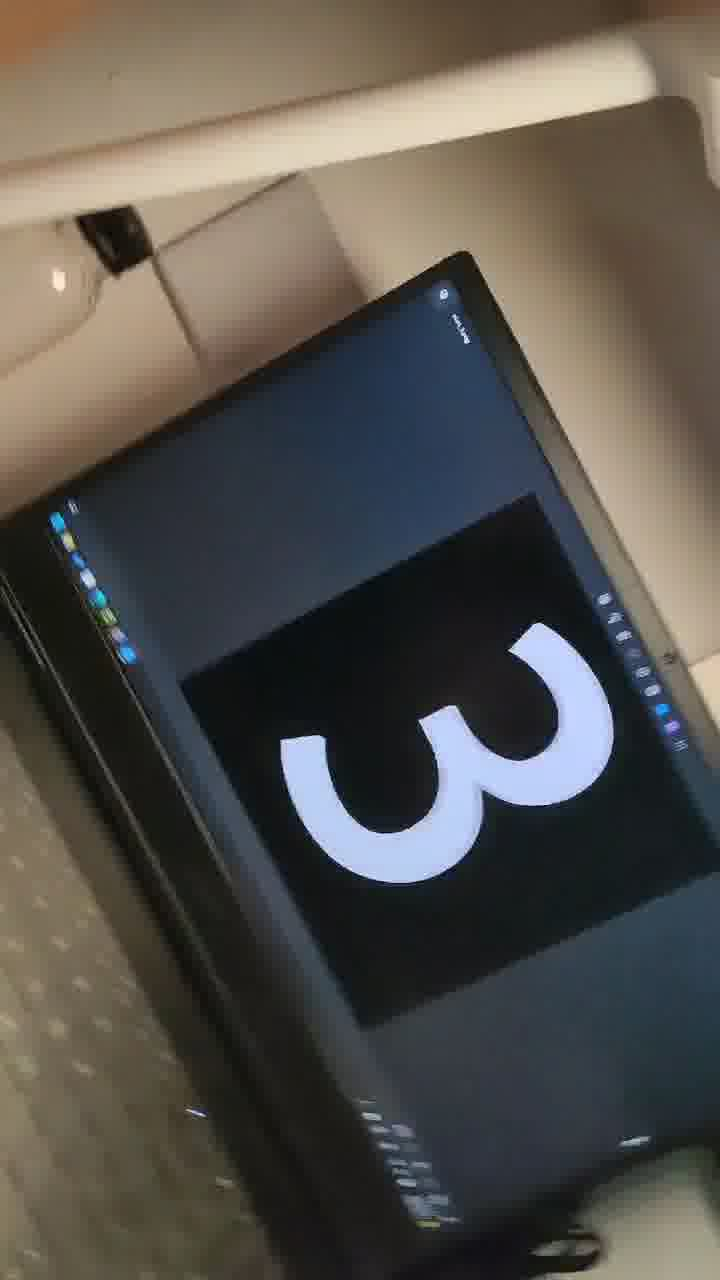three: (275, 554, 626, 955)
